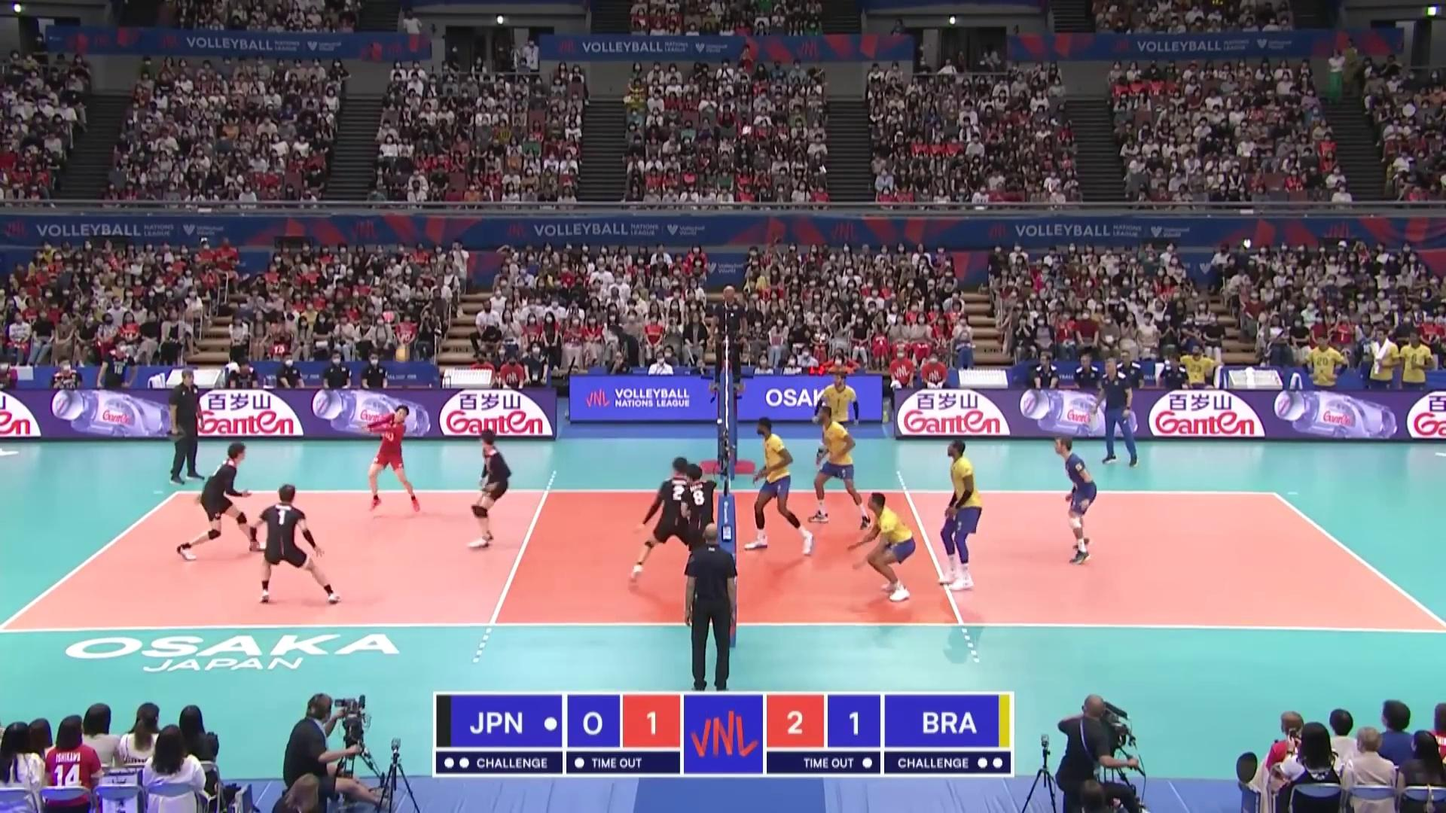player: (253, 482, 343, 605), (177, 443, 265, 557), (630, 456, 707, 582), (750, 417, 815, 551), (938, 439, 986, 590), (851, 492, 916, 602), (810, 406, 870, 525), (362, 406, 423, 513), (1053, 435, 1099, 563), (681, 464, 721, 605), (468, 428, 512, 551), (817, 372, 861, 474)
refree: (684, 522, 736, 691), (709, 285, 748, 397)
